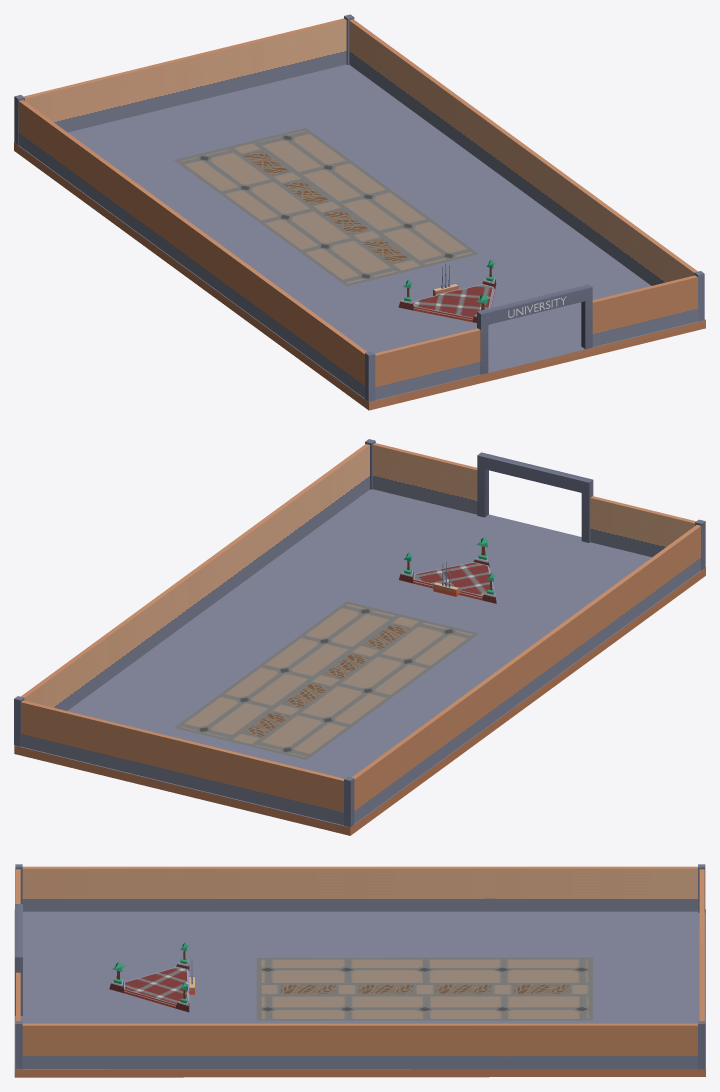
The model's file is university_map.glb.
3 views of the same model, one above another, from view 1: azimuth 30°, elevation 25°; view 2: azimuth 150°, elevation 25°; view 3: azimuth 270°, elevation 25° (orthographic). The views are drawn at different scales.
Visible parts, largest first — view 1: base; view 2: base; view 3: base.
Part boxes in pixels (x1,y1,x2,y2): base: (14,14,705,410); base: (14,439,705,835); base: (14,864,705,1077).
Size of the model in its own units: 6.12 by 1.19 by 11.17.
Materials: 3 (3 with a texture image).
